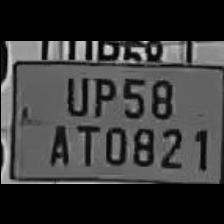0: (100, 120, 126, 166)
1: (186, 122, 211, 170)
2: (157, 122, 183, 170)
5: (117, 70, 145, 118)
8: (146, 73, 174, 117), (130, 120, 154, 168)
A: (43, 118, 71, 166)
P: (89, 68, 115, 116)
T: (70, 119, 98, 166)
U: (60, 68, 90, 114)
